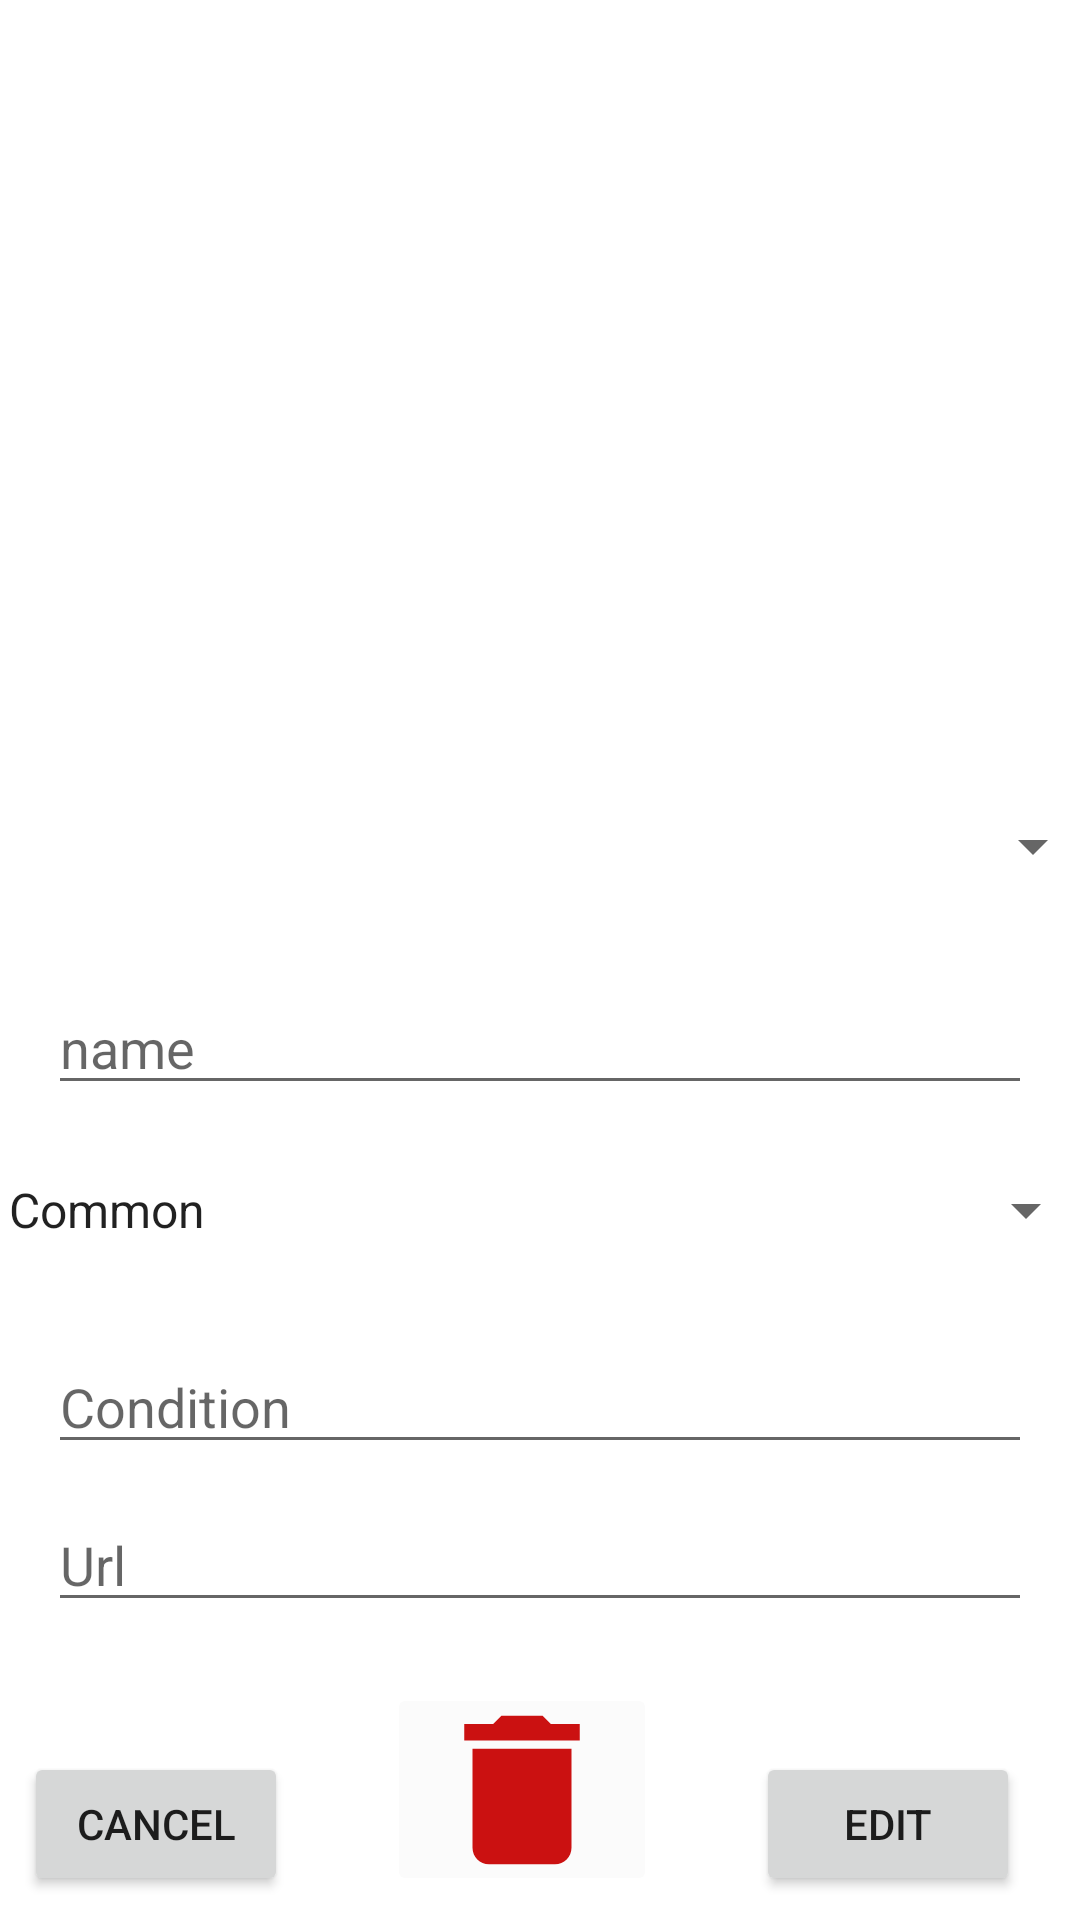

Locate icon controls on the screen. Image size 1080w x 1920h, boxes as (x1, y1, x2, y2).
delete: (464, 1715, 580, 1865)
